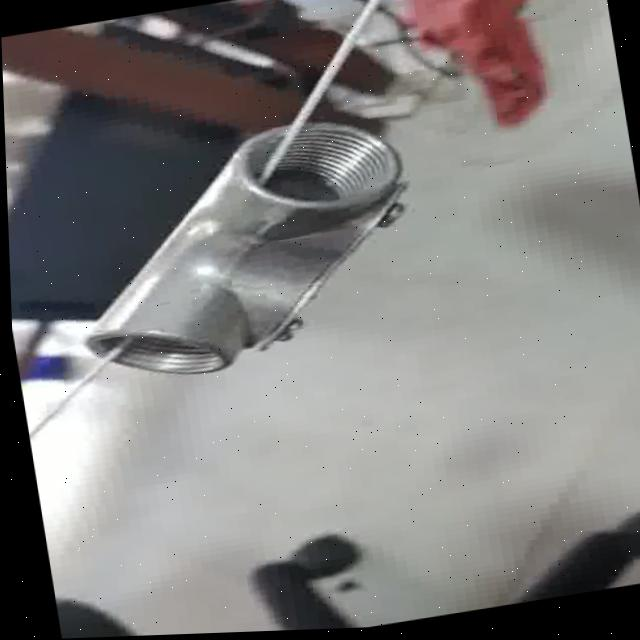Dry: (52, 110, 436, 393)
